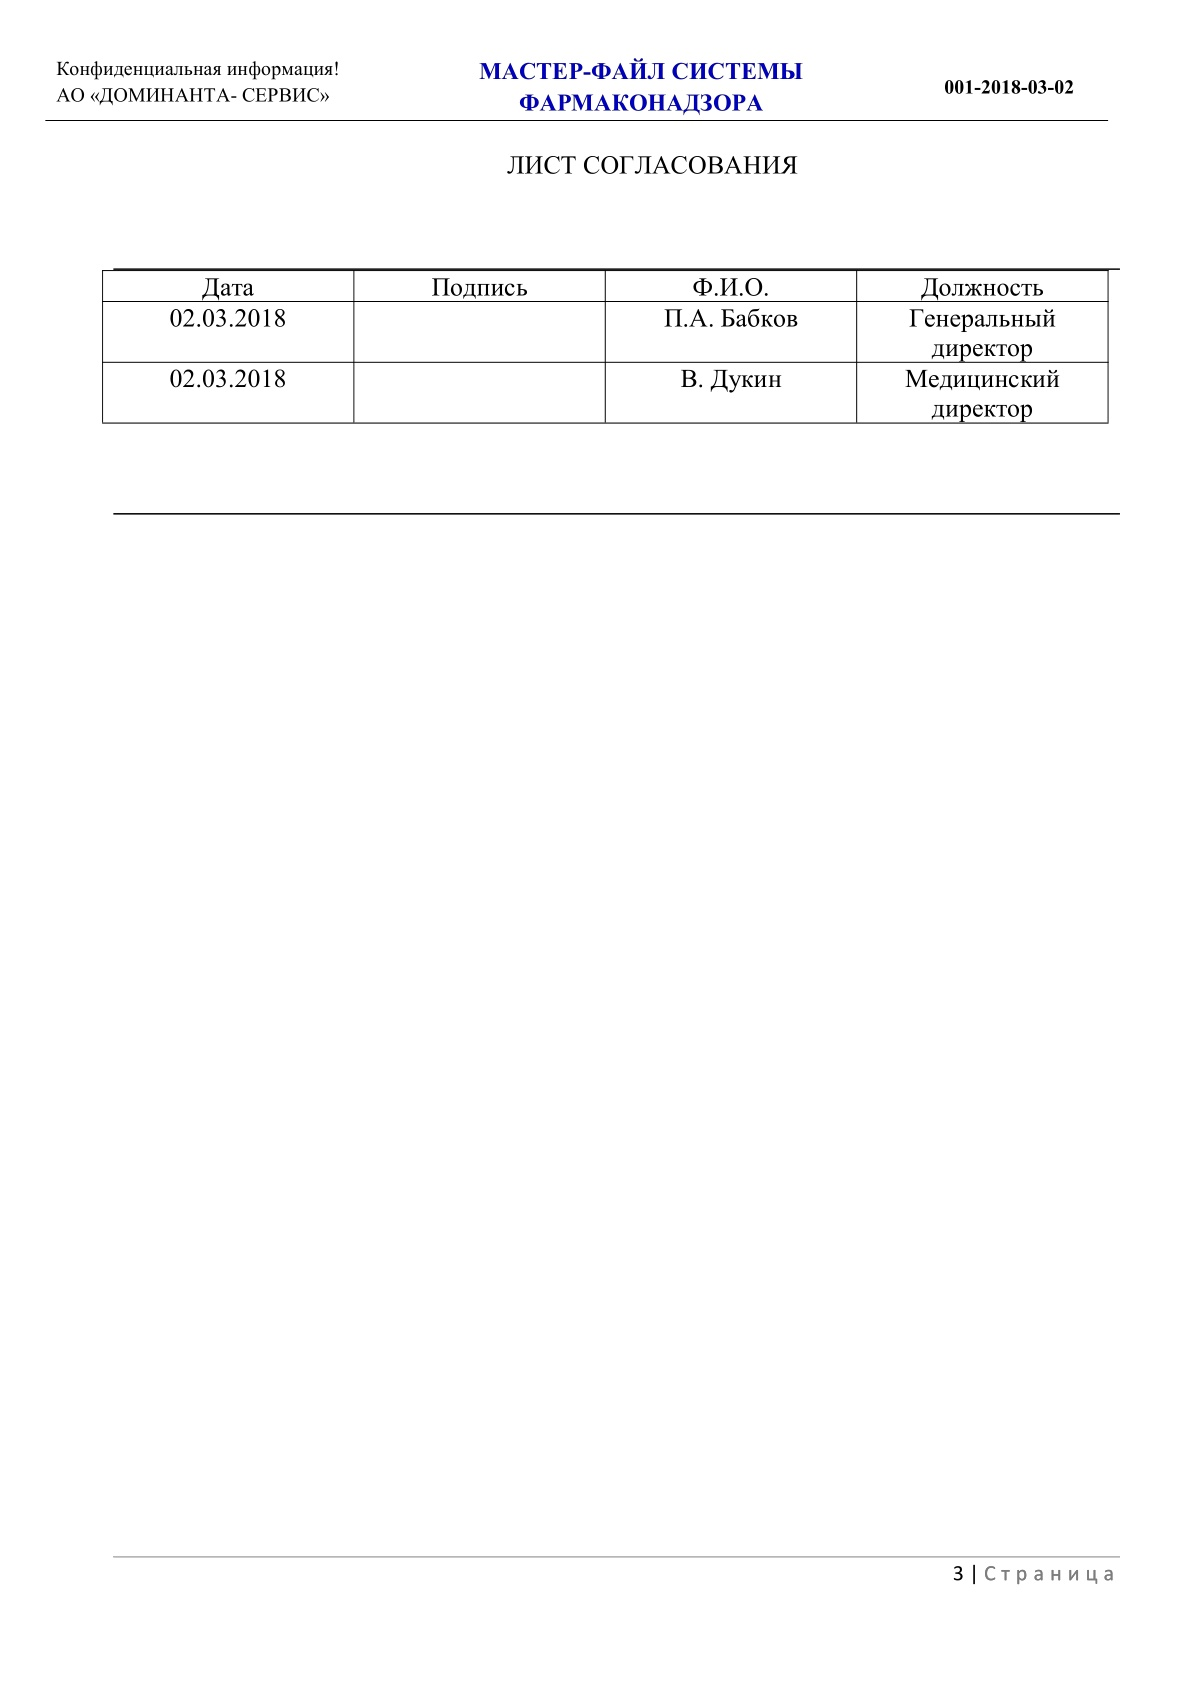full_lined: (101, 268, 1109, 424)
